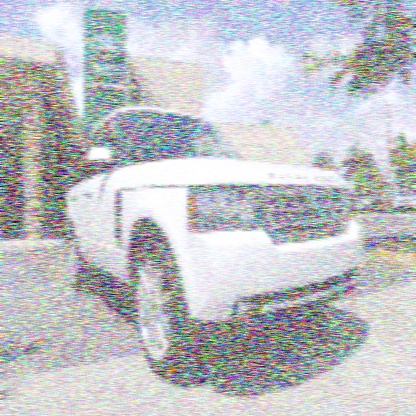Vehicle: (64, 105, 366, 384)
